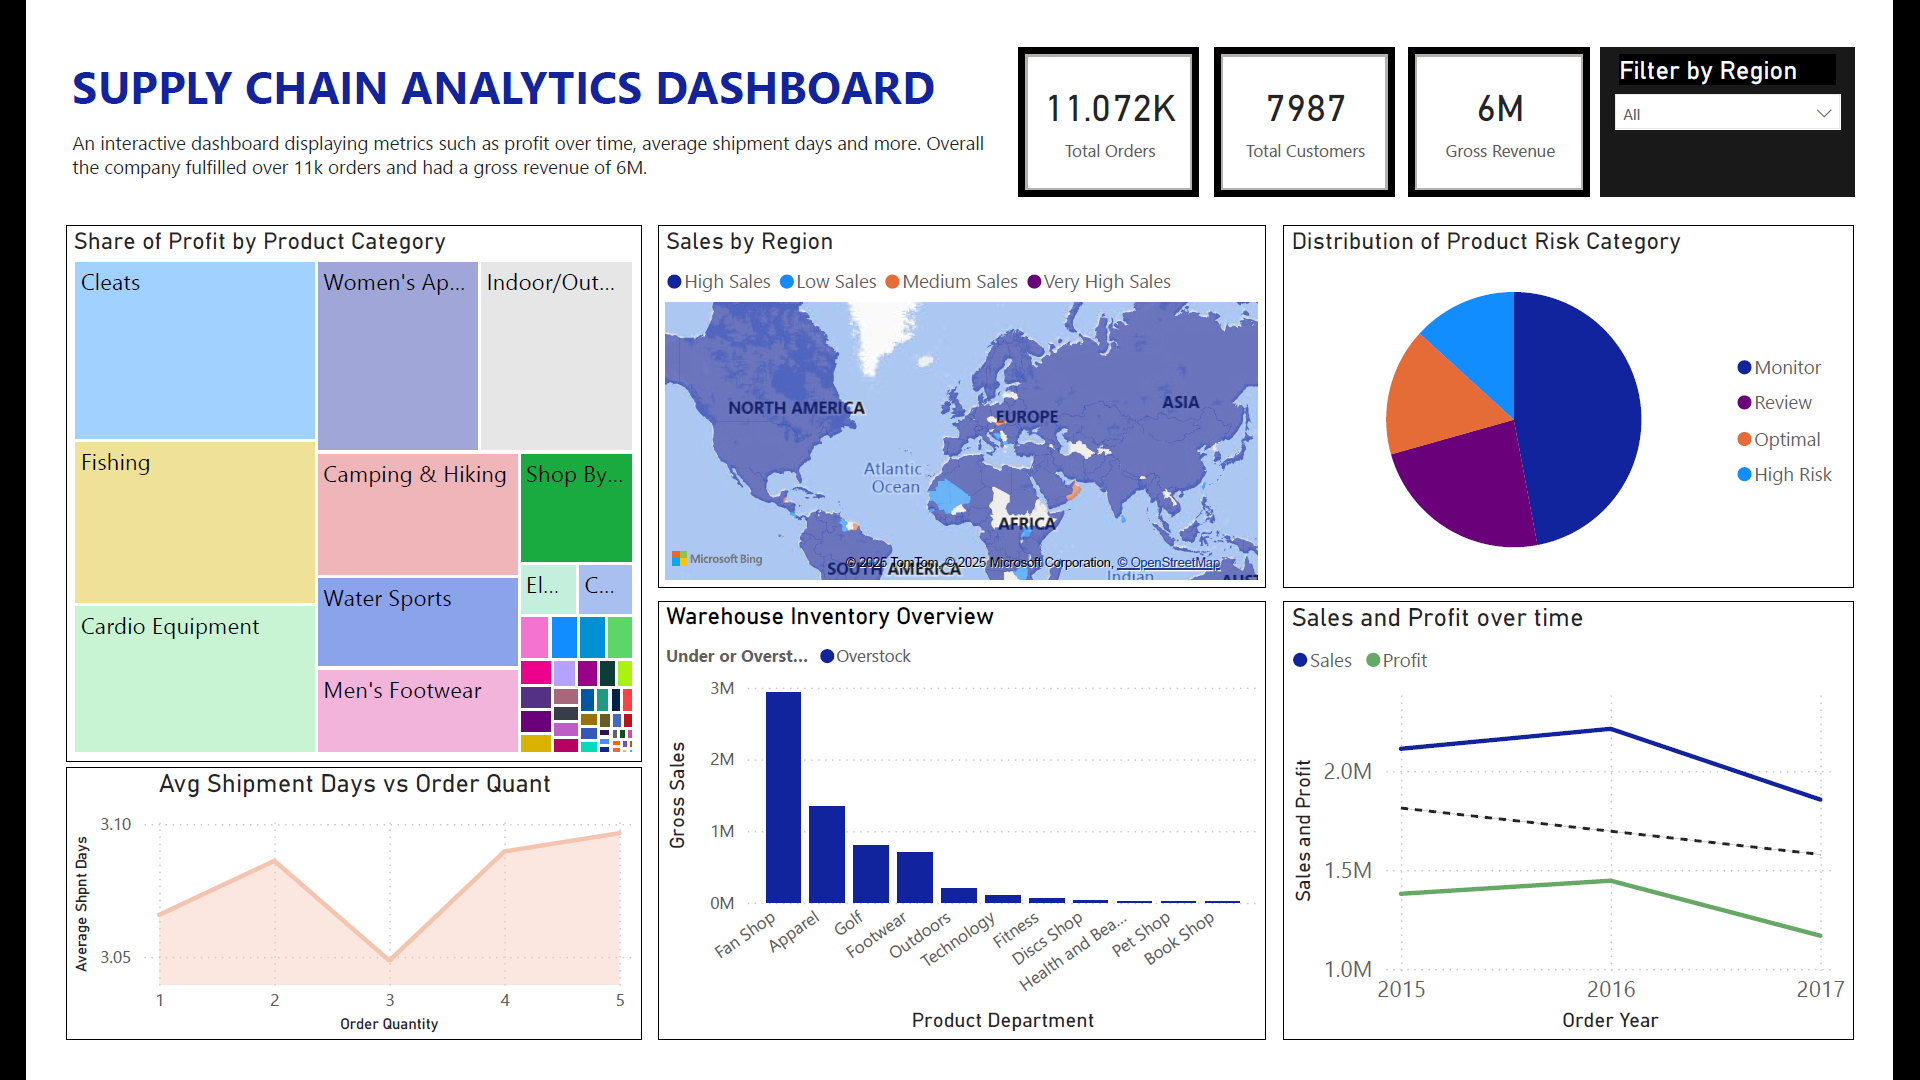

Layout of this report page (visuals, bound fields, positions):
{"tool":"powerbi","page":{"name":"Page 1","canvas":[1280,720],"ordinal":0},"visuals":[{"type":"lineChart","title":"Sales and Profit  over time","fields":{"Category":["orders_and_shipments.Order Year  Hierarchy. Order Year ","orders_and_shipments.Order Year  Hierarchy. Order Month ","orders_and_shipments.Order Year  Hierarchy. Order Day "],"Y":["Sum(orders_and_shipments. Gross Sales )","Sum(orders_and_shipments. Profit )"]},"box":[870,402.5,406.2,313.8],"z":0},{"type":"filledMap","title":"Sales by Region","fields":{"Category":["orders_and_shipments.Customer Country"],"Series":["orders_and_shipments.Sales_Category"]},"box":[425,136.2,432.5,257.5],"z":1000},{"type":"slicer","fields":{"Values":["orders_and_shipments.Customer Region"]},"box":[1096.2,10,180,106.2],"z":2000},{"type":"pieChart","title":"Distribution of Product Risk Category","fields":{"Category":["orders_and_shipments.Product_Risk_Category"],"Y":["CountNonNull(orders_and_shipments.Product Name)"]},"box":[870,136.2,406.2,257.5],"z":3000},{"type":"treemap","title":"Share of Profit  by Product Category","fields":{"Group":["orders_and_shipments.Product Category"],"Values":["Sum(orders_and_shipments. Profit )"]},"box":[3.8,136.2,410,381.2],"z":4000},{"type":"columnChart","title":"Warehouse Inventory Overview","fields":{"Category":["orders_and_shipments.Product Department"],"Y":["Sum(orders_and_shipments. Gross Sales )"],"Series":["orders_and_shipments.Under_or_Overstock"]},"box":[425,402.5,432.5,313.8],"z":6000},{"type":"cardVisual","title":"Gross Revenue","fields":{"Data":["Sum(orders_and_shipments. Gross Sales )"]},"box":[958.8,10,128.8,106.2],"z":7000},{"type":"cardVisual","title":"Gross Revenue","fields":{"Data":["Count(orders_and_shipments. Order ID )"]},"box":[682,10,128,106.2],"z":8000},{"type":"cardVisual","title":"Gross Revenue","fields":{"Data":["Count(orders_and_shipments.Customer ID)"]},"box":[821.2,10,127.5,106.2],"z":9000},{"type":"areaChart","title":"Avg Shipment Days vs Order Quant","fields":{"Category":["orders_and_shipments.Order Quantity"],"Y":["Avg(orders_and_shipments.Shipment Days - Scheduled)"]},"box":[3.8,521.2,410,195],"z":10000},{"type":"textbox","box":[3.8,10,668.8,53.8],"z":10001},{"type":"textbox","box":[3.8,63.8,668.8,52.5],"z":10002}]}

Visuals, with their boxes in screenshot pixels (x1, y1, x2, y2), scaled from the page's 1280x720 canvas onto the 1920x1080 screenshot:
"Sales and Profit  over time" lineChart: box=[1305, 604, 1914, 1074]
"Sales by Region" filledMap: box=[638, 204, 1286, 591]
slicer - orders_and_shipments.Customer Region: box=[1644, 15, 1914, 174]
"Distribution of Product Risk Category" pieChart: box=[1305, 204, 1914, 591]
"Share of Profit  by Product Category" treemap: box=[6, 204, 621, 776]
"Warehouse Inventory Overview" columnChart: box=[638, 604, 1286, 1074]
"Gross Revenue" cardVisual: box=[1438, 15, 1631, 174]
"Gross Revenue" cardVisual: box=[1023, 15, 1215, 174]
"Gross Revenue" cardVisual: box=[1232, 15, 1423, 174]
"Avg Shipment Days vs Order Quant" areaChart: box=[6, 782, 621, 1074]
textbox: box=[6, 15, 1009, 96]
textbox: box=[6, 96, 1009, 174]
